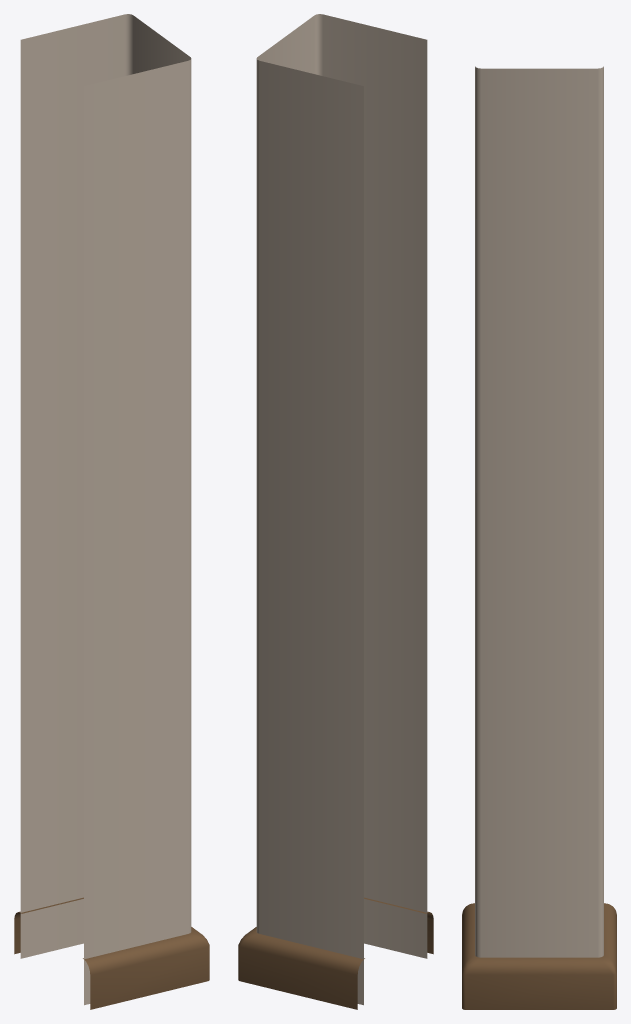
The model's file is SM_Wall_Border_01.fbx.
3 views of the same model, side by side, from view 1: azimuth 30°, elevation 25°; view 2: azimuth 150°, elevation 25°; view 3: azimuth 270°, elevation 25° (orthographic).
Parts seen in each view (by area): view 1: SM_Wall_01.004; view 2: SM_Wall_01.004; view 3: SM_Wall_01.004.
Part boxes in pixels (box(x1,y1,x2,y2)): SM_Wall_01.004: box(14, 14, 209, 1009); SM_Wall_01.004: box(238, 14, 433, 1009); SM_Wall_01.004: box(462, 66, 616, 1009).
Bounding box in the file's own units: 55.05 × 400 × 60.
